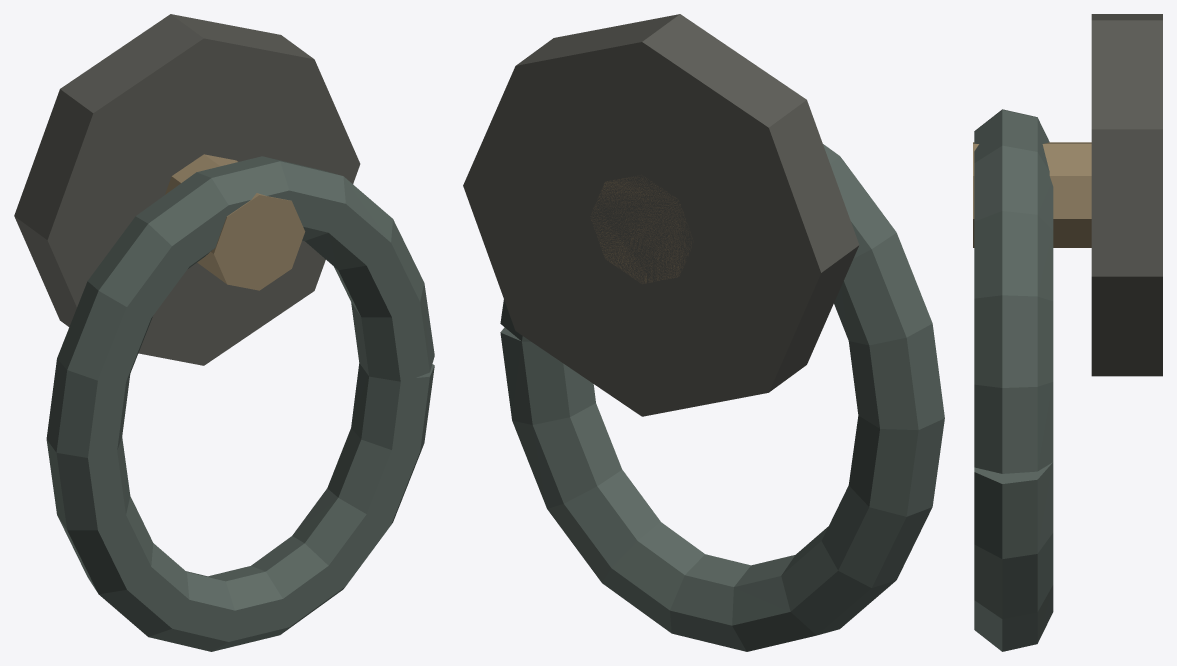
Rendered from TyingRing.glb.
3 views of the same model, side by side, from view 1: azimuth 30°, elevation 25°; view 2: azimuth 150°, elevation 25°; view 3: azimuth 270°, elevation 25° (orthographic). The views are drawn at different scales.
Parts seen in each view (by area): view 1: TyingRing; view 2: TyingRing; view 3: TyingRing.
Boxes of the visible parts, x1,y1,x2,y2 form: TyingRing: [14, 14, 434, 651]; TyingRing: [463, 14, 944, 651]; TyingRing: [973, 14, 1162, 651].
Bounding box in the file's own units: 0.1572 × 0.2281 × 0.064.
